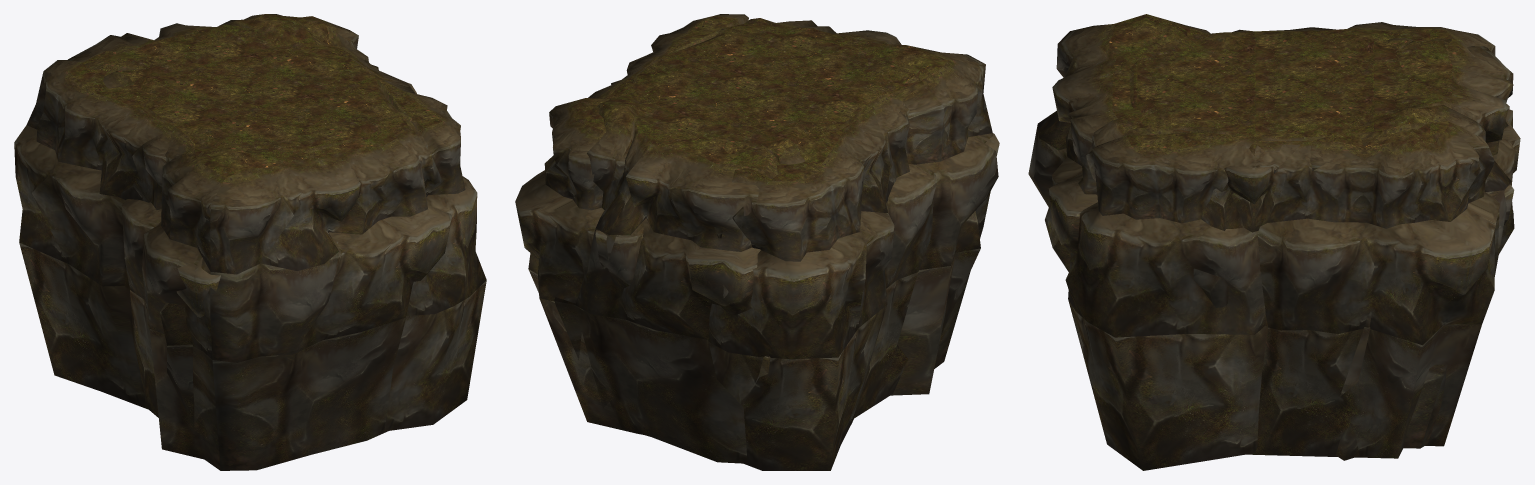
Rendered from C_dimian002.fbx.
The picture shows the model from 3 angles, left to right: view 1: azimuth 30°, elevation 25°; view 2: azimuth 150°, elevation 25°; view 3: azimuth 270°, elevation 25°; orthographic projection. The views are drawn at different scales.
Parts seen in each view (by area): view 1: C_dimian001, C_dimian002; view 2: C_dimian001, C_dimian002; view 3: C_dimian002, C_dimian001.
Boxes of the visible parts, x1=… form: C_dimian001: x1=14, y1=14, x2=452, y2=470; C_dimian002: x1=67, y1=19, x2=486, y2=431; C_dimian001: x1=515, y1=20, x2=998, y2=470; C_dimian002: x1=554, y1=14, x2=999, y2=463; C_dimian002: x1=1065, y1=23, x2=1520, y2=470; C_dimian001: x1=1028, y1=14, x2=1514, y2=458.
Size of the model in its own units: 2181 by 1938 by 2647.
